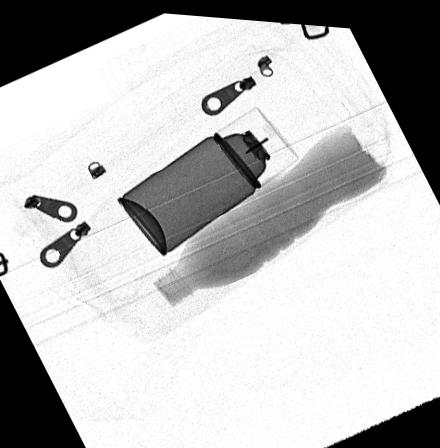Sprayer: (118, 101, 299, 253)
